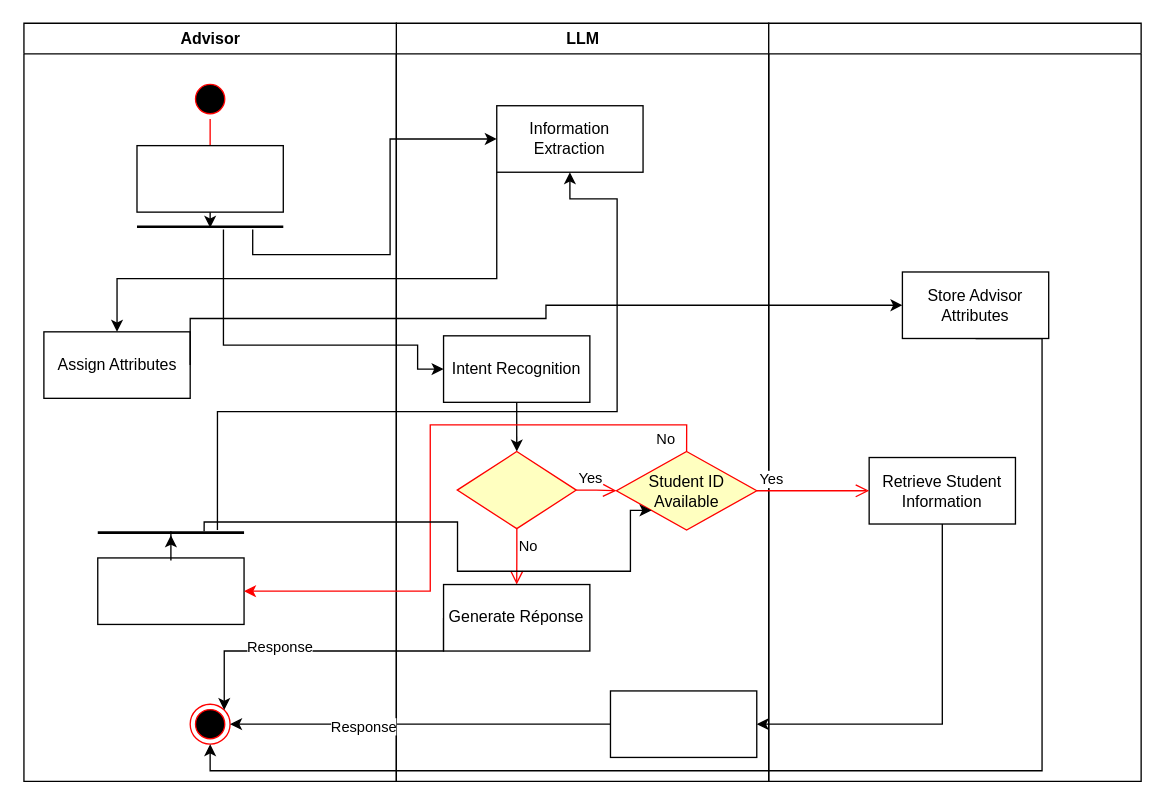
The diagram is 1164 pixels wide and 805 high, and some of its shapes have lost their labels. Here are the shapes that lost their labels. From the top down, the box of each, then its label:
(136, 144, 283, 212): Input Message
(767, 22, 1141, 781): Database
(456, 450, 576, 529): Student View Request?
(96, 557, 244, 624): Input Student ID
(609, 690, 757, 757): Generate report
